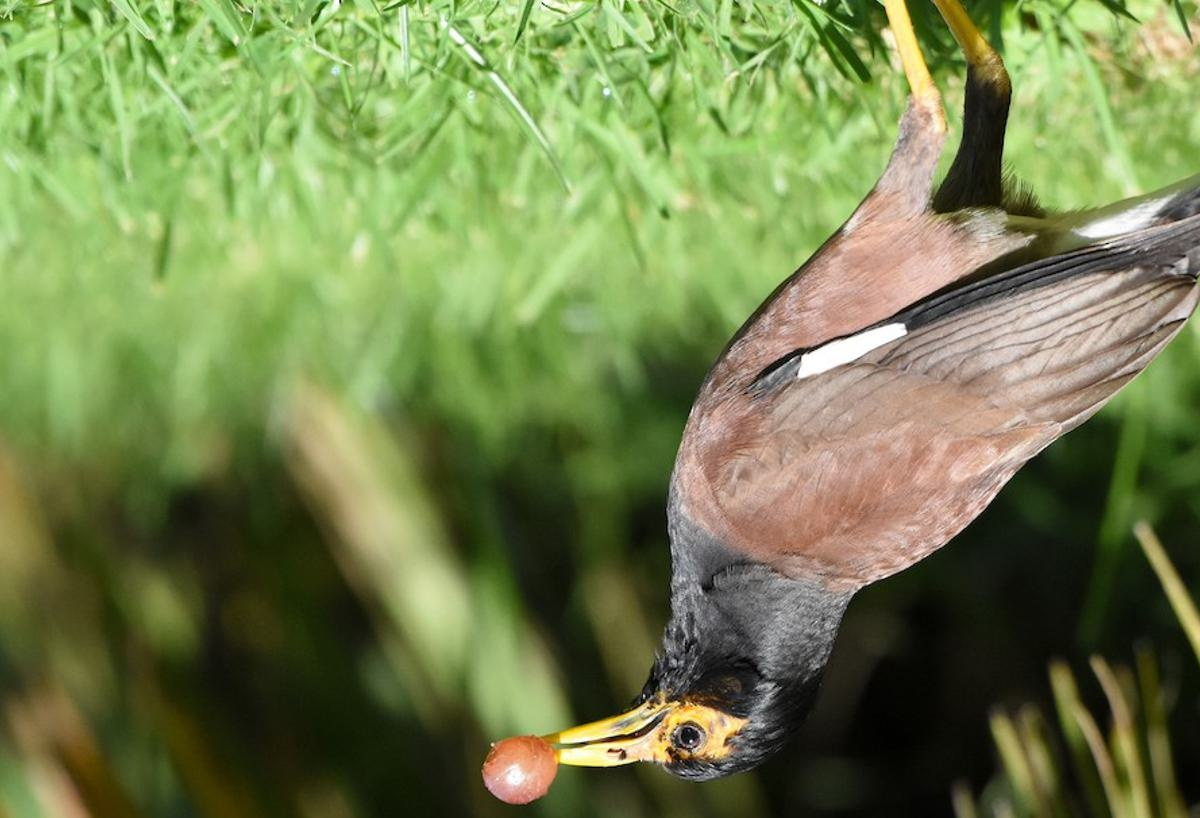myna: (465, 1, 1200, 807)
